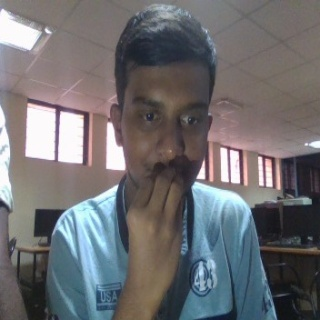Food: (125, 166, 184, 311)
